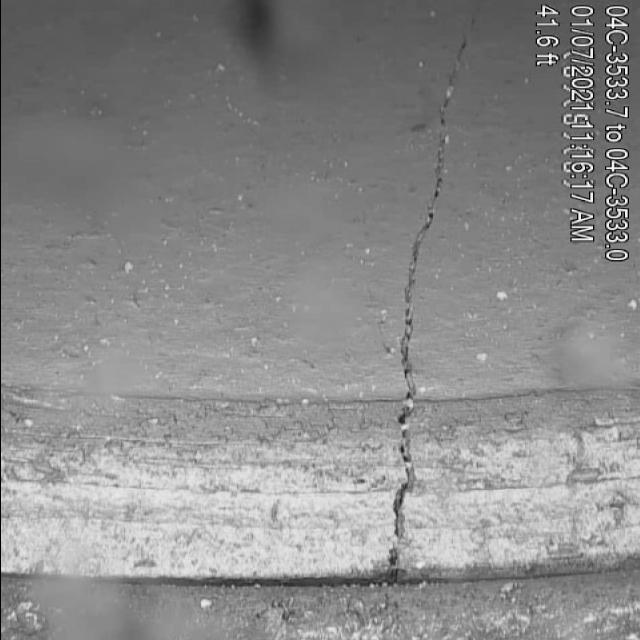Crack: (356, 119, 490, 536)
